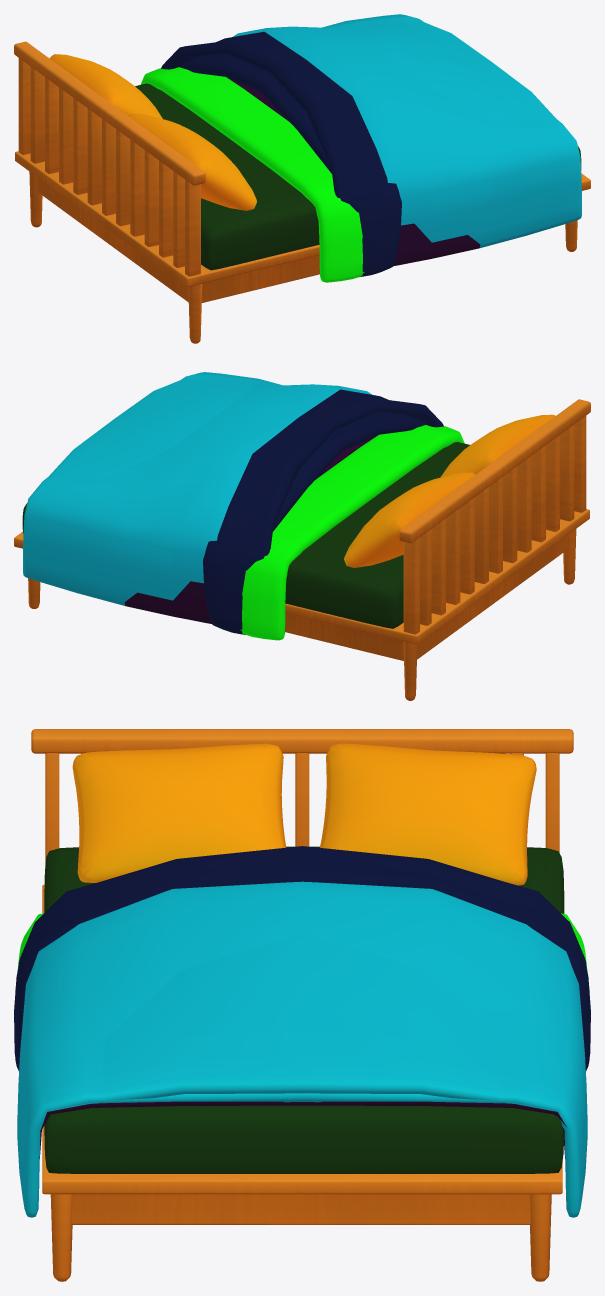
File: bed.glb
The picture shows the model from 3 angles, top to bottom: view 1: azimuth 30°, elevation 25°; view 2: azimuth 150°, elevation 25°; view 3: azimuth 270°, elevation 25°; orthographic projection. The views are drawn at different scales.
Visible parts, largest first — view 1: room3_bed, room3_bed_blanket_sleep_couple, room3_bed_blanket_sleep_alone, room3_bed_blanket; view 2: room3_bed, room3_bed_blanket_sleep_couple, room3_bed_blanket_sleep_alone, room3_bed_blanket; view 3: room3_bed, room3_bed_blanket_sleep_couple, room3_bed_blanket_sleep_alone, room3_bed_blanket.
Part boxes in pixels (<box>): room3_bed: <box>14,41,590,343</box>; room3_bed_blanket_sleep_couple: <box>161,14,581,271</box>; room3_bed_blanket_sleep_alone: <box>179,21,562,277</box>; room3_bed_blanket: <box>141,67,480,282</box>; room3_bed: <box>14,399,590,700</box>; room3_bed_blanket_sleep_couple: <box>23,372,443,629</box>; room3_bed_blanket_sleep_alone: <box>42,379,425,634</box>; room3_bed_blanket: <box>124,425,464,640</box>; room3_bed: <box>31,729,573,1281</box>; room3_bed_blanket_sleep_couple: <box>14,846,590,1217</box>; room3_bed_blanket_sleep_alone: <box>14,934,590,1207</box>; room3_bed_blanket: <box>15,913,589,1158</box>.
Size of the model in its own units: 6.3 by 2.74 by 5.18.
Materials: 4 (4 with a texture image).
